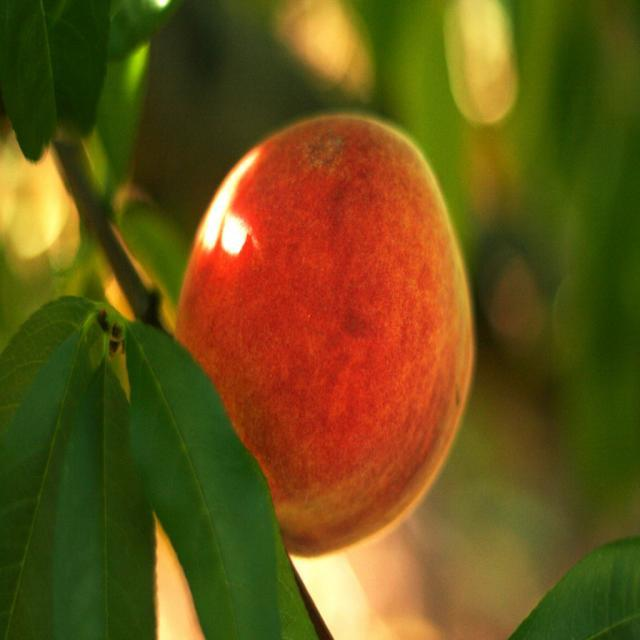Peach: (171, 116, 475, 559)
